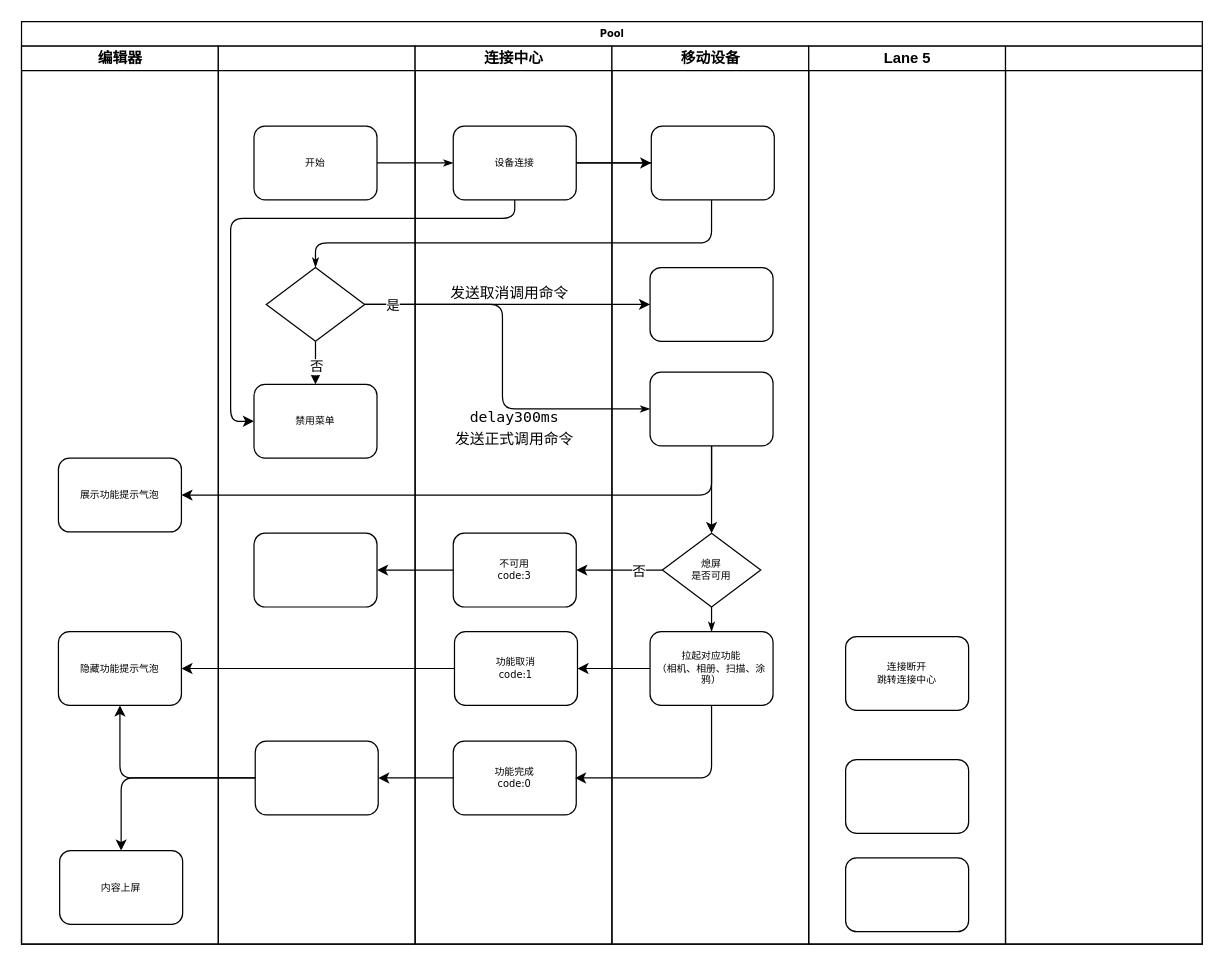
Image size: 1224x966. Some labels were removed from this diagram. The box of each missing label's shape, as (x1, y1, x2, y2) in pixels:
Lane 6: (1004, 45, 1202, 944)
功能 是否支持: (265, 266, 365, 341)
取消当前view: (649, 266, 773, 341)
提示“亮屏操作”: (253, 532, 377, 607)
文本或文件 数据处理: (254, 740, 378, 815)
笔记功能: (217, 45, 415, 944)
获取设备支持 版本信息: (650, 125, 774, 200)
调用功能: (649, 371, 773, 446)
